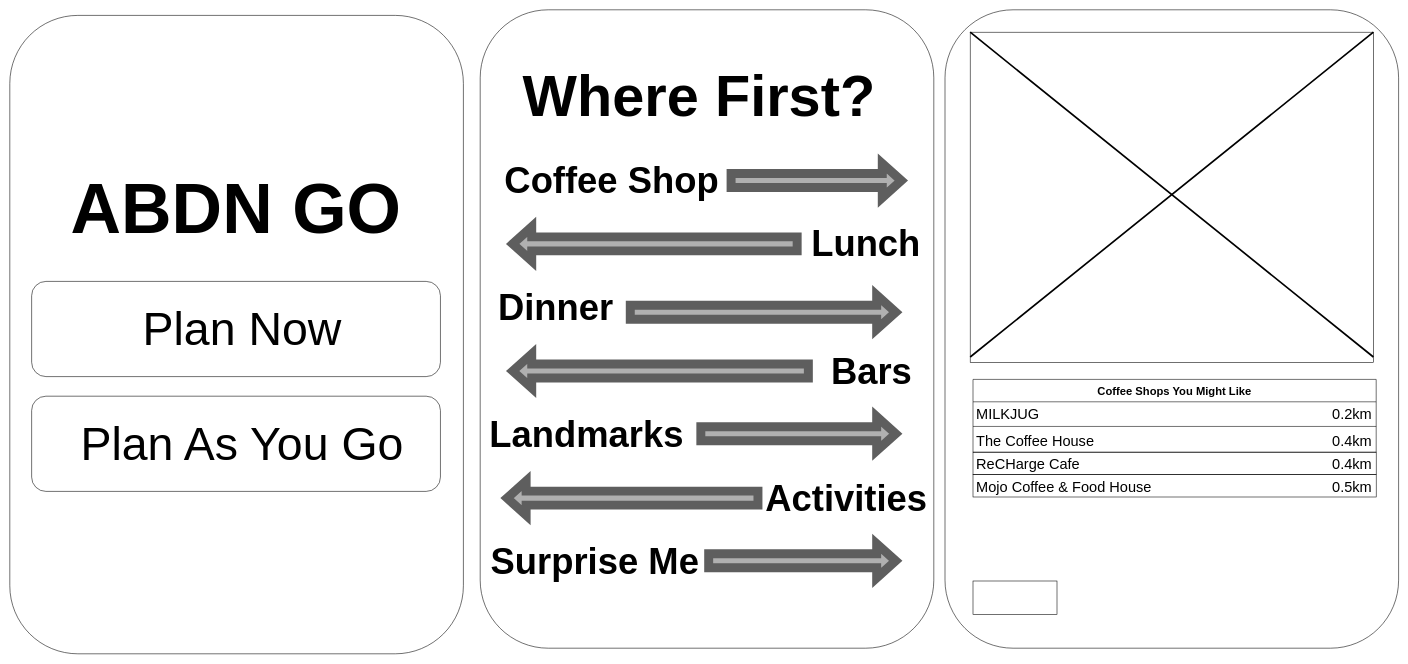
Image size: 1408x664. Some labels were removed from this diagram. The centre of each missing label's shape, as x and y in pixels:
"Back" belongs at (1014,597).
"MAP" belongs at (1171,194).
